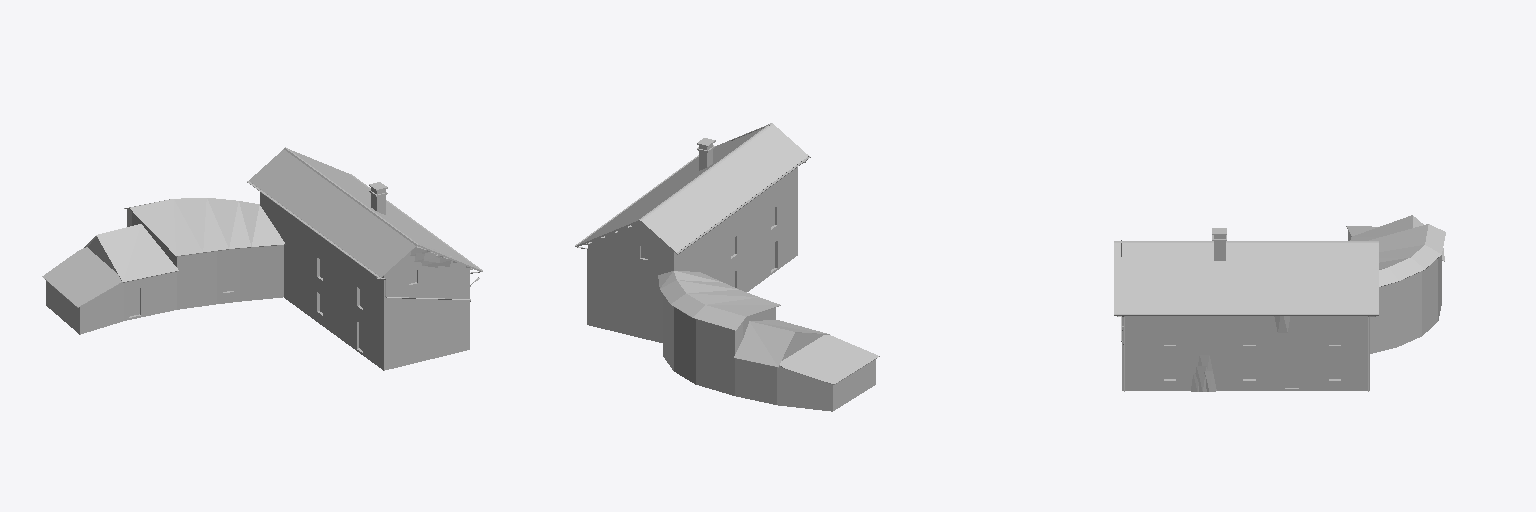
Rendered from Old_stone_house.obj.
3 views of the same model, side by side, from view 1: azimuth 30°, elevation 25°; view 2: azimuth 150°, elevation 25°; view 3: azimuth 270°, elevation 25° (orthographic).
Visible parts, largest first — view 1: Old_stone_house; view 2: Old_stone_house; view 3: Old_stone_house.
Boxes of the visible parts, x1=… form: Old_stone_house: x1=42, y1=147, x2=482, y2=370; Old_stone_house: x1=575, y1=123, x2=879, y2=411; Old_stone_house: x1=1114, y1=215, x2=1445, y2=391.
Bounding box in the file's own units: 1402 × 644 × 1393.